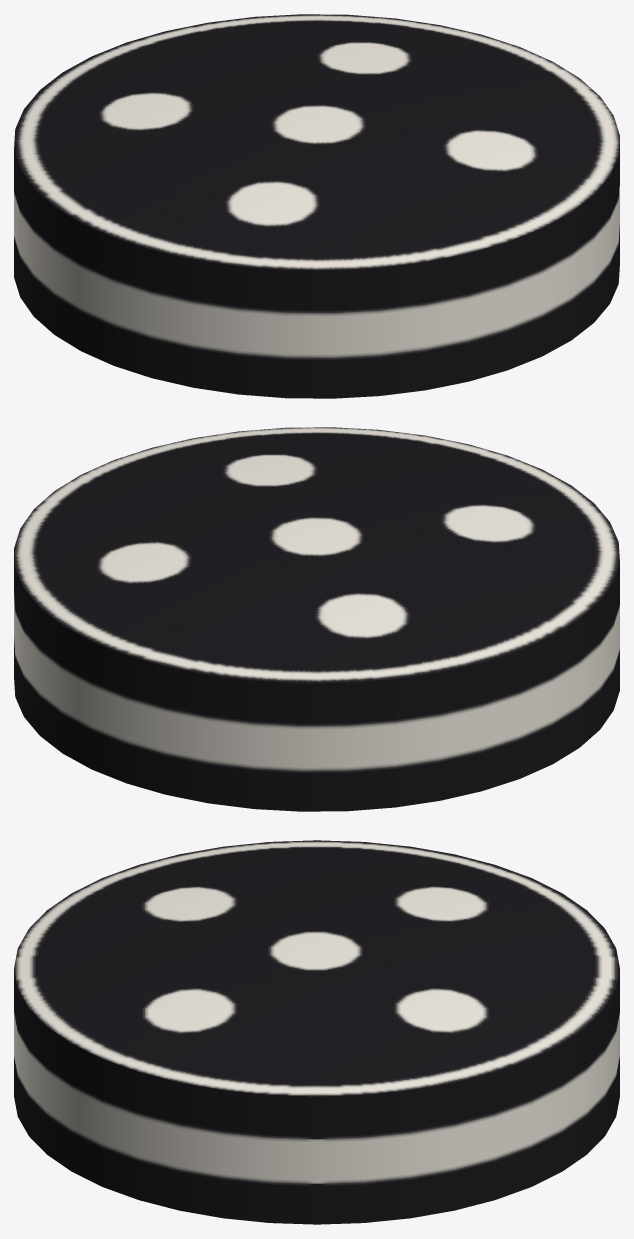
File: piece_near.glb
3 renders of one model, top to bottom at view 1: azimuth 30°, elevation 25°; view 2: azimuth 150°, elevation 25°; view 3: azimuth 270°, elevation 25°, orthographic.
Visible parts, largest first — view 1: piece_near; view 2: piece_near; view 3: piece_near.
Part boxes in pixels (x1,y1,x2,y2): piece_near: [14, 14, 619, 398]; piece_near: [14, 427, 619, 811]; piece_near: [14, 840, 619, 1224].
Bounding box in the file's own units: 0.045 × 0.012 × 0.045.
Materials: 1 (1 with a texture image).
